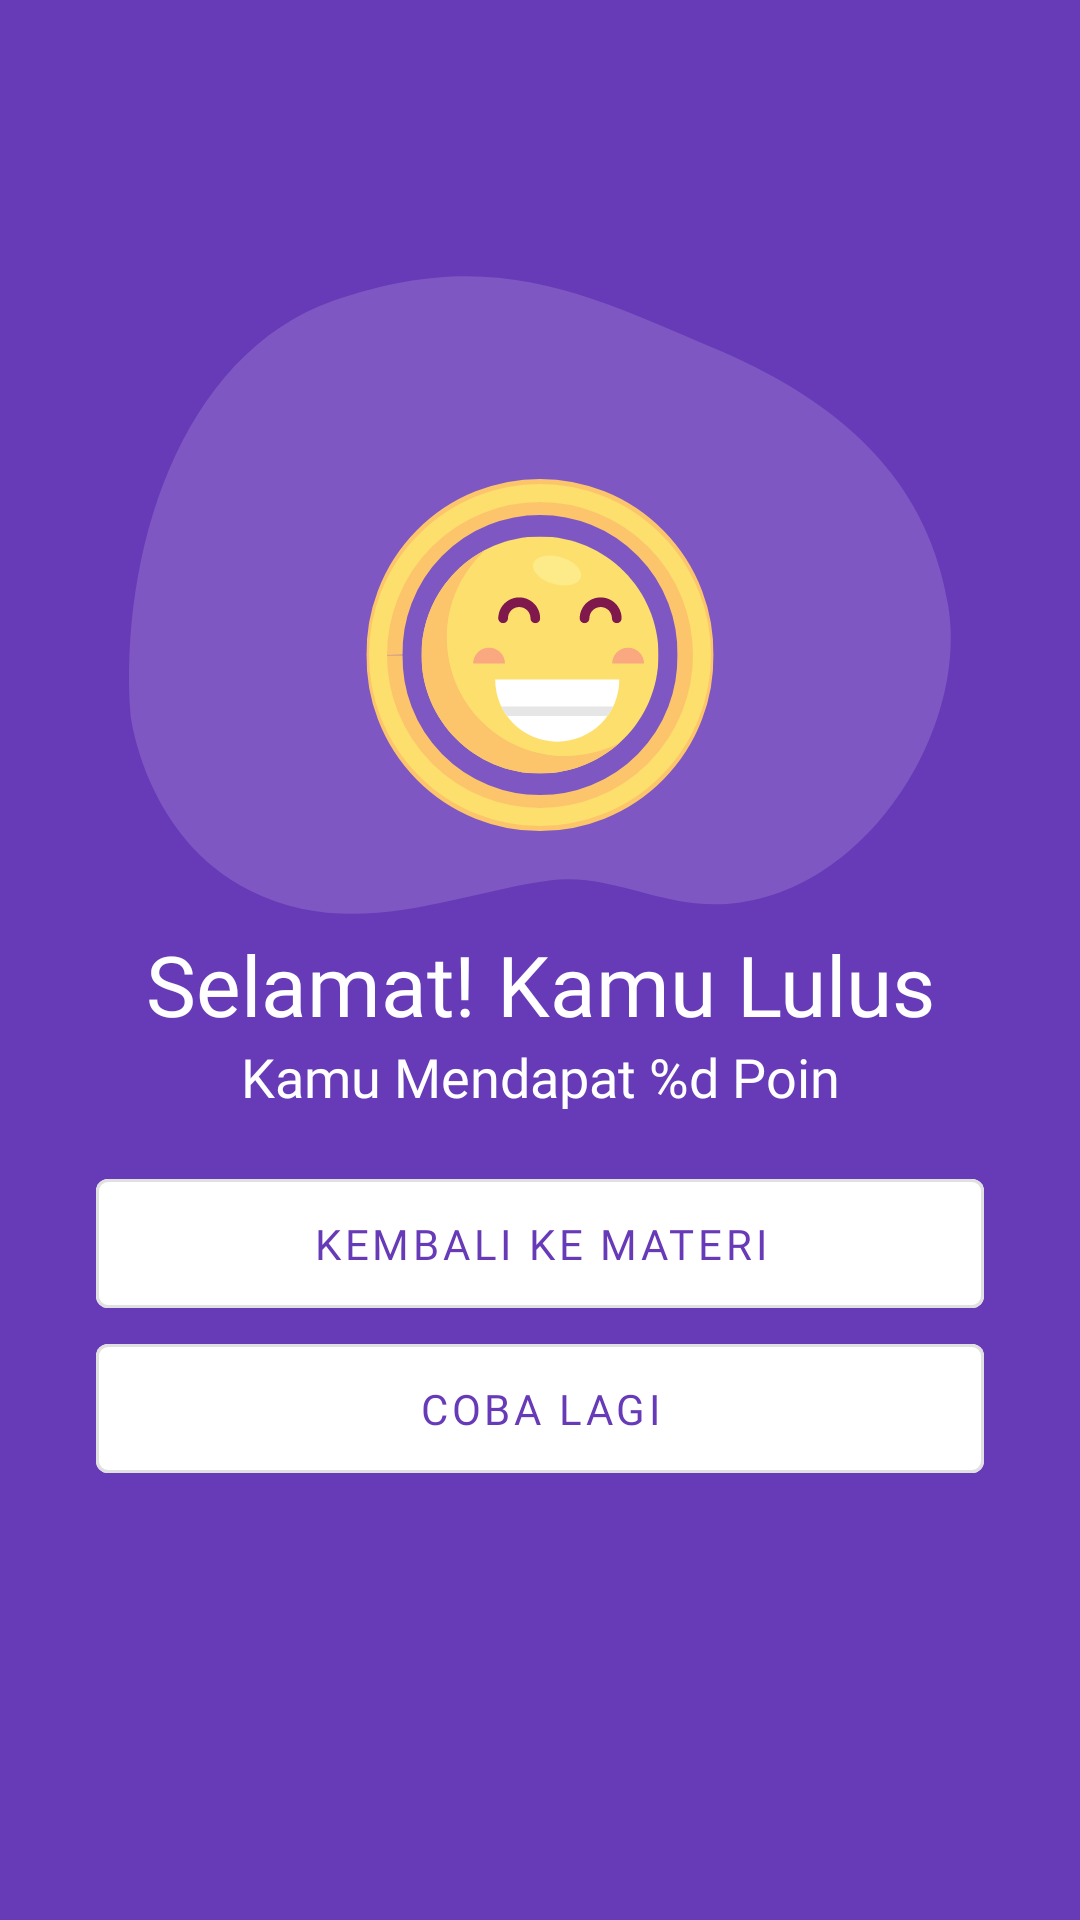

Where icons sit on this 1080 x 1920 app screen, as (x1, y1, x2, y2):
happy: (366, 479, 714, 831)
